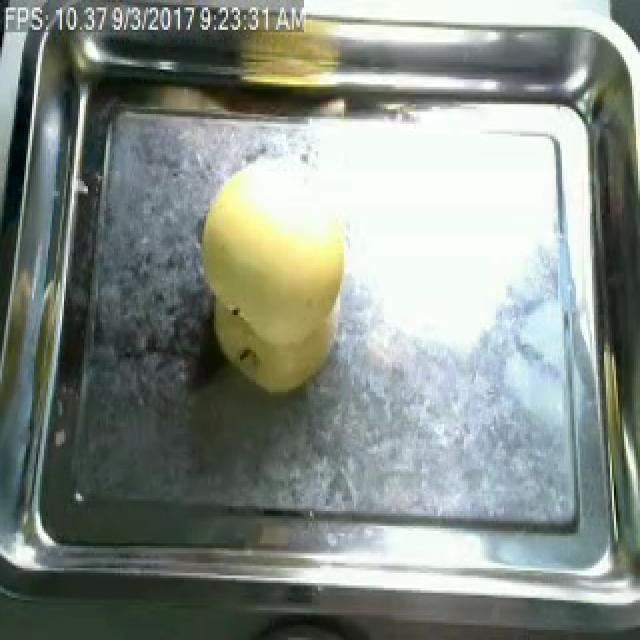Fruit: (192, 166, 354, 402)
